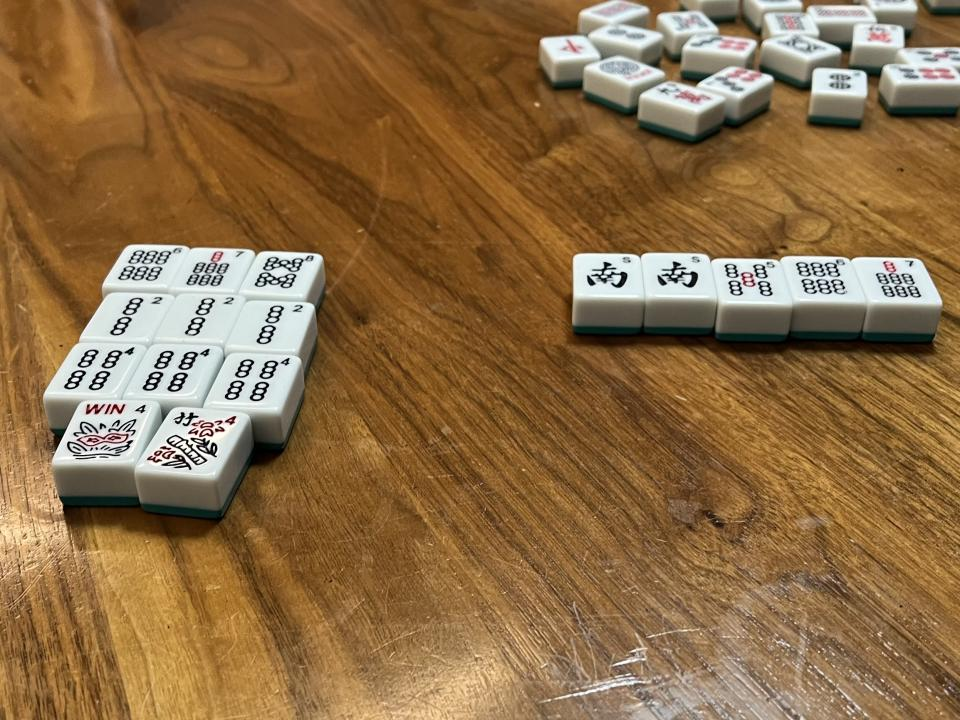bamboo-eight: (239, 252, 323, 297)
bamboo-five: (711, 259, 793, 305)
bamboo-four: (122, 344, 223, 400), (43, 343, 148, 396), (204, 353, 300, 410)
bamboo-seven: (851, 258, 943, 305), (173, 249, 255, 292)
bamboo-six: (781, 256, 867, 303), (105, 245, 188, 288)
bamboo-two: (79, 293, 173, 340), (153, 294, 245, 342), (227, 301, 314, 350)
flower-blue_four: (133, 406, 251, 479)
flower-red_four: (51, 400, 158, 465)
honor-south_wind: (642, 254, 717, 298), (573, 254, 644, 300)
